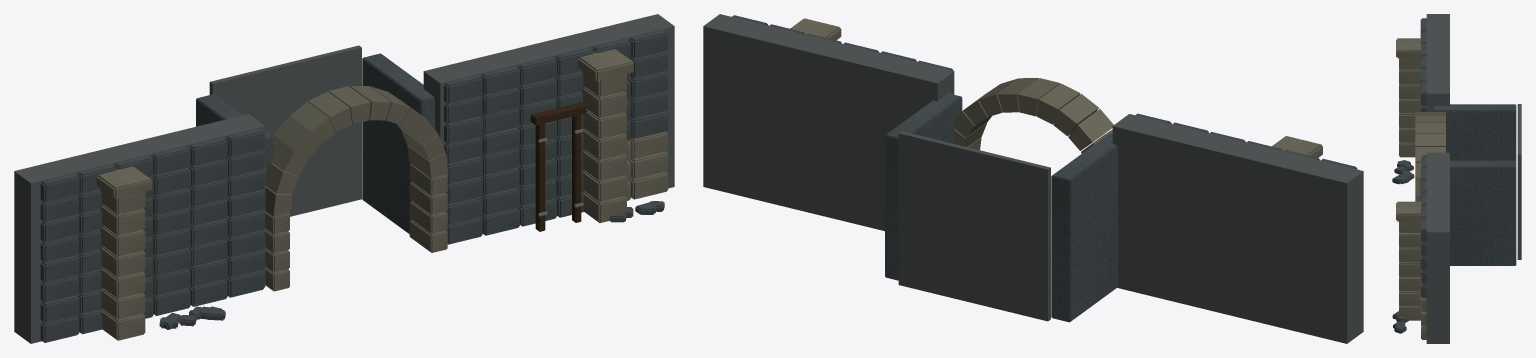
File: dungeon-v1.glb
3 views of the same model, side by side, from view 1: azimuth 30°, elevation 25°; view 2: azimuth 150°, elevation 25°; view 3: azimuth 270°, elevation 25° (orthographic). The views are drawn at different scales.
Visible parts, largest first — view 1: Wall course, Wall course.048, Passage arch pier, Passage shadow, Recessed mortar, Buttress block, Buttress block.007, Passage return.001, Recessed mortar.001, Repair upright, Wall course.052, Fallen masonry (+1 smaller); view 2: Recessed mortar, Recessed mortar.001, Passage shadow, Passage return, Passage arch pier, Passage return.001, Buttress block.007, Buttress block, Wall course, Wall course.048; view 3: Passage return.001, Recessed mortar.001, Passage return, Buttress block.007, Buttress block, Recessed mortar, Passage arch pier, Wall course.048, Passage shadow, Fallen masonry, Wall course, Wall course.052.
Part boxes in pixels (x1=…): Wall course: x1=40, y1=128, x2=265, y2=342; Wall course.048: x1=444, y1=29, x2=668, y2=244; Passage arch pier: x1=265, y1=86, x2=448, y2=291; Passage shadow: x1=209, y1=45, x2=361, y2=216; Recessed mortar: x1=14, y1=114, x2=265, y2=343; Buttress block: x1=96, y1=166, x2=152, y2=340; Buttress block.007: x1=578, y1=49, x2=633, y2=222; Passage return.001: x1=362, y1=53, x2=434, y2=233; Recessed mortar.001: x1=423, y1=14, x2=674, y2=217; Repair upright: x1=530, y1=102, x2=586, y2=231; Wall course.052: x1=625, y1=131, x2=668, y2=200; Fallen masonry: x1=159, y1=201, x2=664, y2=329; Recessed mortar: x1=1112, y1=114, x2=1363, y2=343; Recessed mortar.001: x1=703, y1=14, x2=954, y2=230; Passage shadow: x1=898, y1=131, x2=1050, y2=321; Passage return: x1=1051, y1=133, x2=1117, y2=322; Passage arch pier: x1=954, y1=78, x2=1113, y2=153; Passage return.001: x1=885, y1=93, x2=962, y2=280; Buttress block.007: x1=790, y1=18, x2=841, y2=40; Buttress block: x1=1272, y1=136, x2=1322, y2=157; Wall course: x1=1135, y1=113, x2=1357, y2=169; Wall course.048: x1=732, y1=15, x2=953, y2=70; Passage return.001: x1=1450, y1=160, x2=1516, y2=265; Recessed mortar.001: x1=1426, y1=152, x2=1449, y2=343; Passage return: x1=1434, y1=104, x2=1516, y2=160; Buttress block.007: x1=1396, y1=201, x2=1421, y2=320; Buttress block: x1=1396, y1=38, x2=1421, y2=157; Recessed mortar: x1=1426, y1=14, x2=1449, y2=111; Passage arch pier: x1=1415, y1=112, x2=1445, y2=201; Wall course.048: x1=1420, y1=155, x2=1426, y2=297; Passage shadow: x1=1517, y1=104, x2=1521, y2=259; Fallen masonry: x1=1392, y1=160, x2=1414, y2=333; Wall course: x1=1420, y1=18, x2=1426, y2=111; Wall course.052: x1=1420, y1=295, x2=1426, y2=339.
Size of what is drawn, in the model's own units: 15.1 by 3.74 by 3.78.
Materials: 5 (3 with a texture image).
